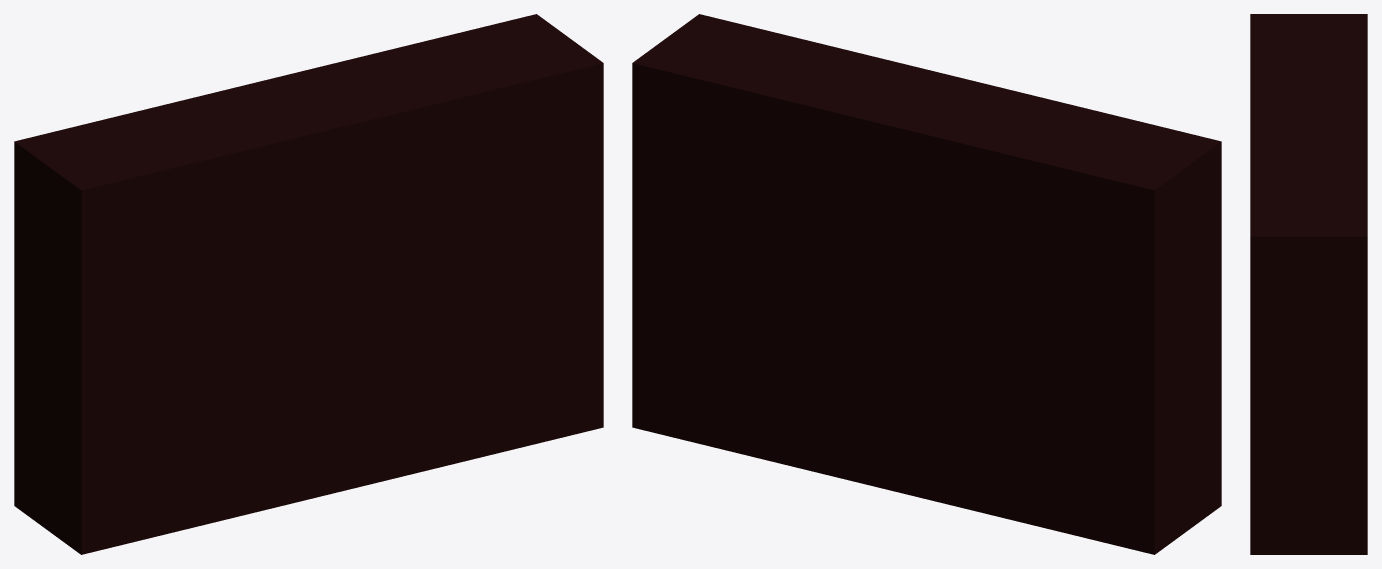
Rendered from shallow_h.gltf.
The picture shows the model from 3 angles, left to right: view 1: azimuth 30°, elevation 25°; view 2: azimuth 150°, elevation 25°; view 3: azimuth 270°, elevation 25°; orthographic projection. The views are drawn at different scales.
Visible parts, largest first — view 1: Content-Mesh; view 2: Content-Mesh; view 3: Content-Mesh.
Boxes of the visible parts, x1=… form: Content-Mesh: x1=14, y1=14, x2=603, y2=554; Content-Mesh: x1=632, y1=14, x2=1221, y2=554; Content-Mesh: x1=1250, y1=14, x2=1367, y2=554.
Size of the model in its own units: 9 by 6 by 2.
Materials: 1 (1 with a texture image).
